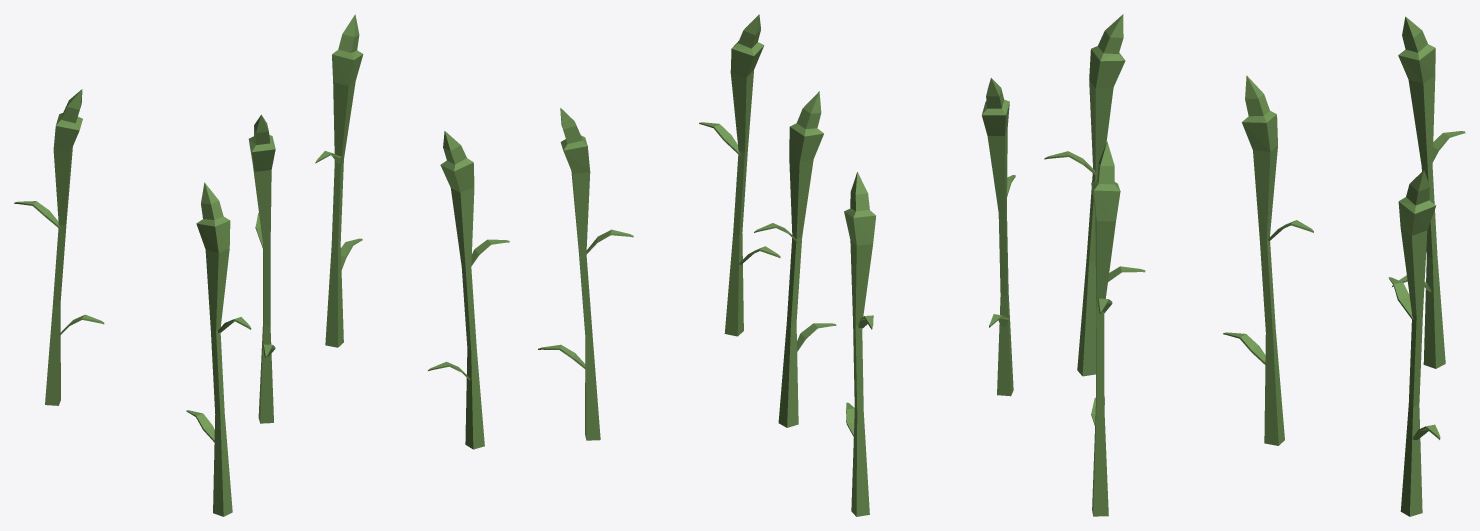
File: crop_wheat.s2.glb
The picture shows the model from 3 angles, left to right: view 1: azimuth 30°, elevation 25°; view 2: azimuth 150°, elevation 25°; view 3: azimuth 270°, elevation 25°; orthographic projection. The views are drawn at different scales.
Bounding box in the file's own units: 0.6281 × 0.5685 × 0.6078.
